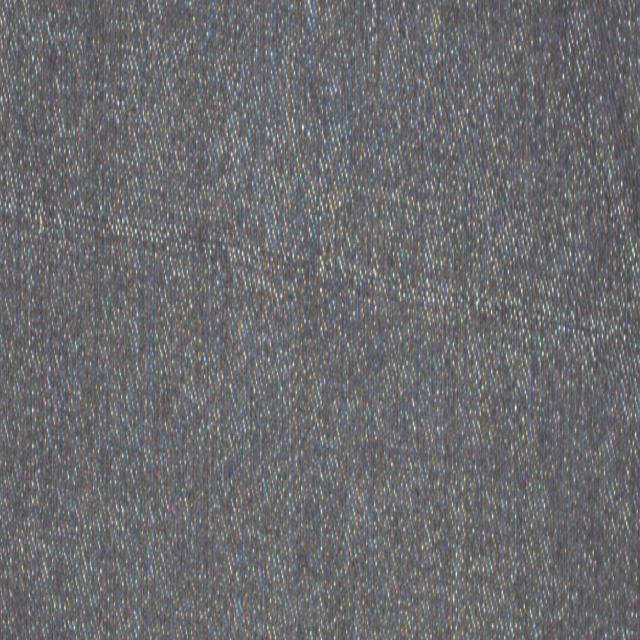Line: (0, 195, 640, 348)
